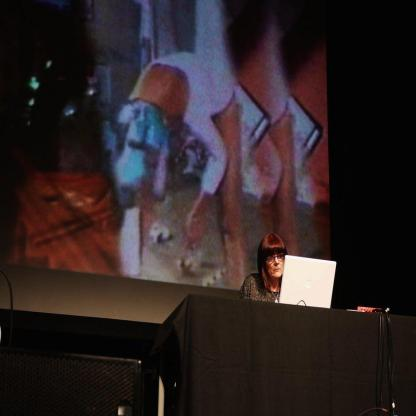board: (278, 252, 338, 301)
